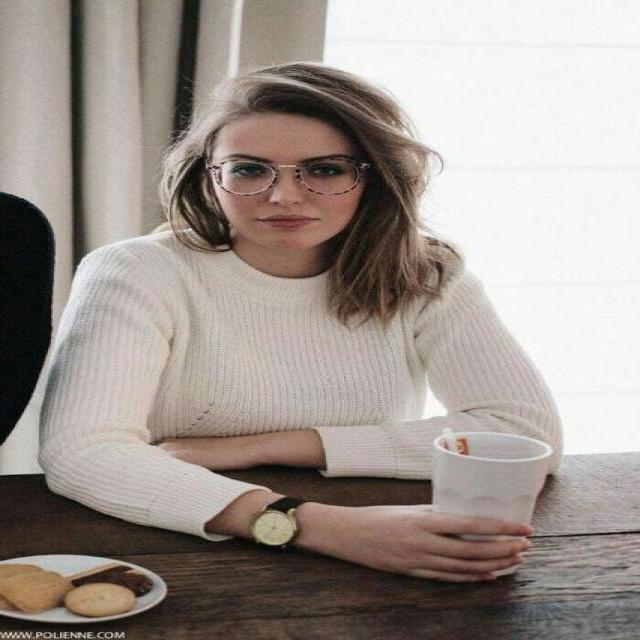glasses: (200, 156, 374, 196)
